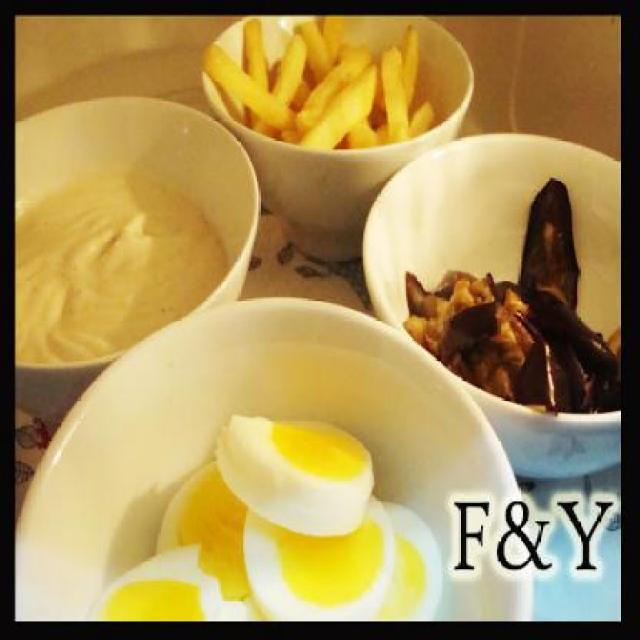eggplant: (404, 176, 619, 419)
french fries: (199, 15, 446, 150)
hummus: (15, 138, 227, 374)
